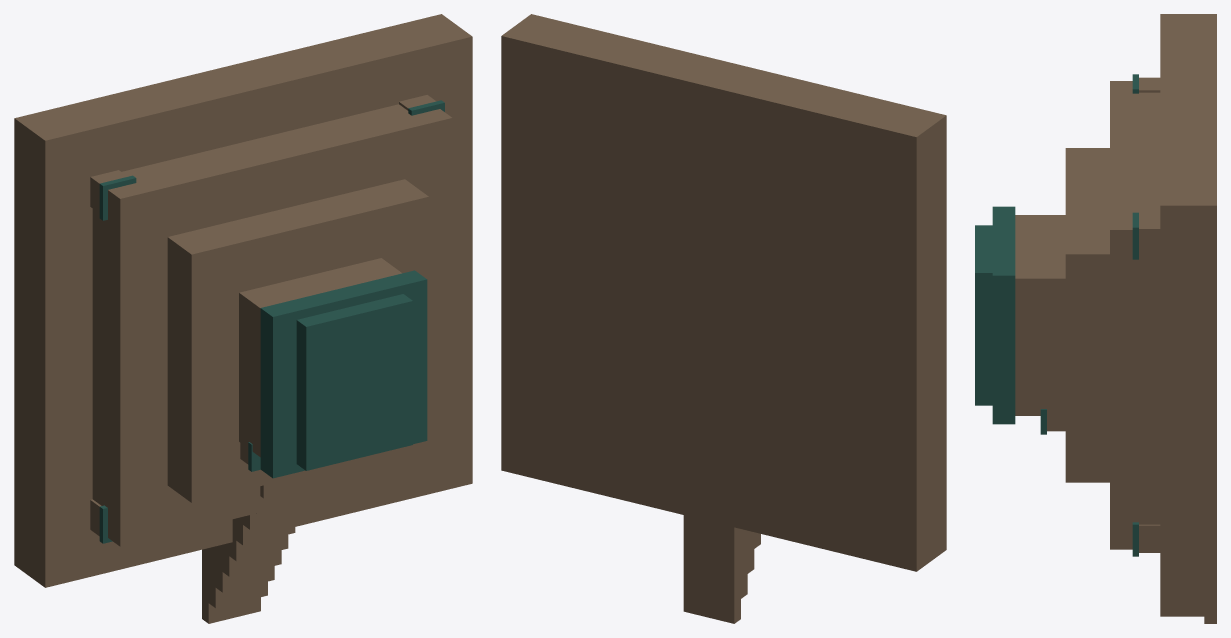
File: SM_Citadel.obj
3 views of the same model, side by side, from view 1: azimuth 30°, elevation 25°; view 2: azimuth 150°, elevation 25°; view 3: azimuth 270°, elevation 25° (orthographic). The views are drawn at different scales.
Visible parts, largest first — view 1: SM_Citadel; view 2: SM_Citadel; view 3: SM_Citadel.
Part boxes in pixels (x1,y1,x2,y2): SM_Citadel: [14, 14, 472, 623]; SM_Citadel: [501, 14, 946, 623]; SM_Citadel: [975, 14, 1216, 623].
Size of the model in its own units: 3600 by 4400 by 1920.
